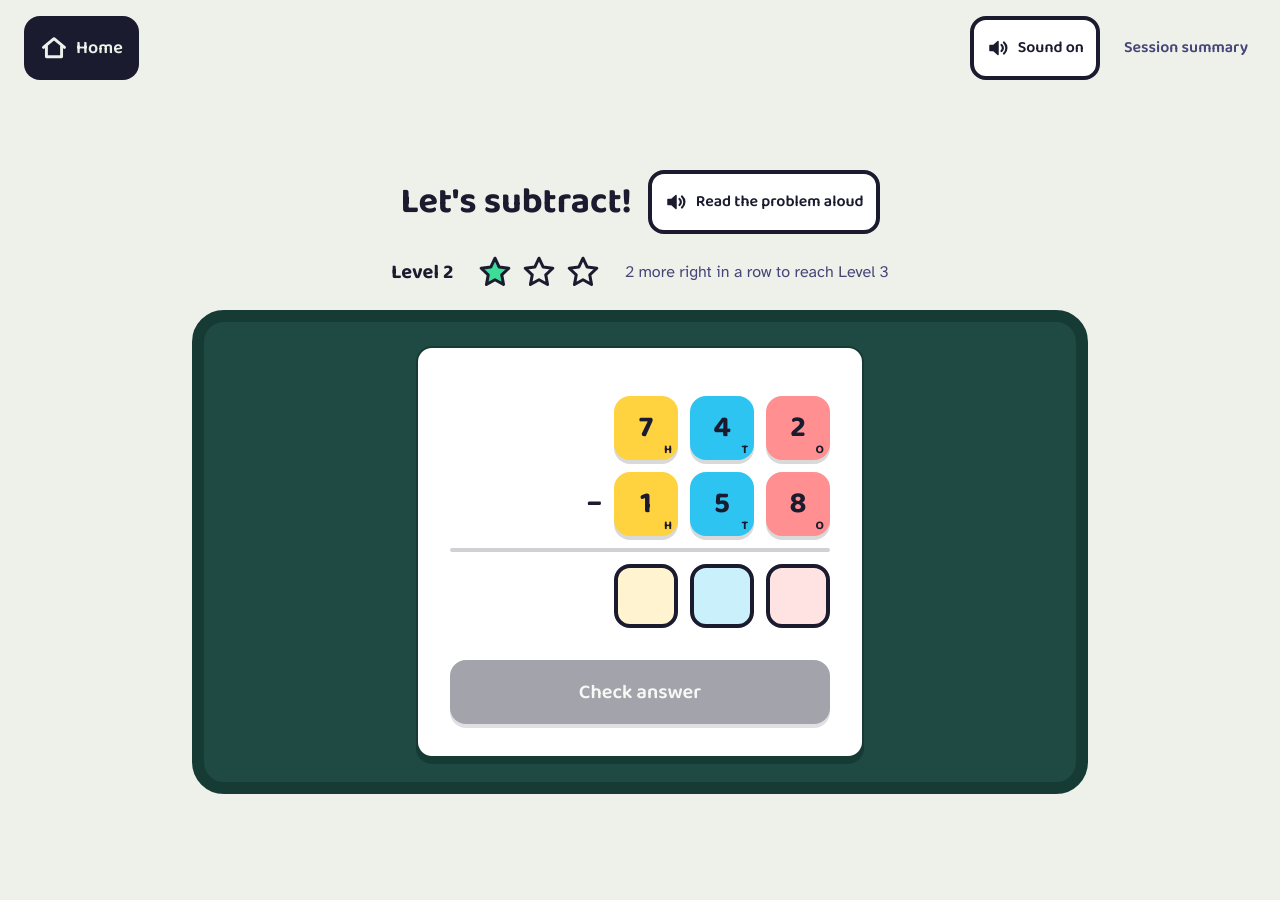
Test: a wrong answer plays the soft wrong sound
The image size is (1280, 900).
Type "6" into the field named "Hundreds digit of your answer" at (646, 596), box [614, 564, 678, 628]
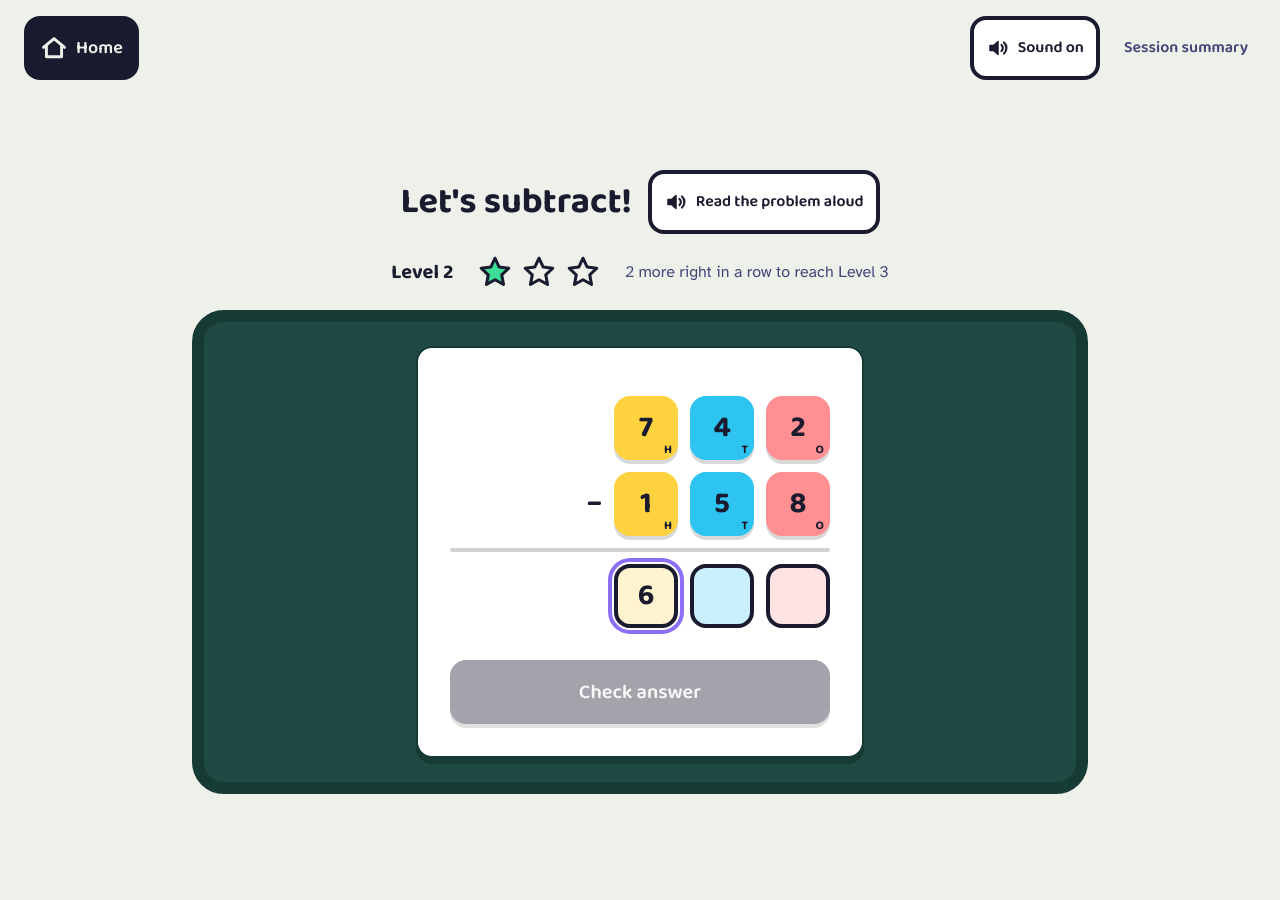
Type "1" into the field named "Tens digit of your answer" at (722, 596), box [690, 564, 754, 628]
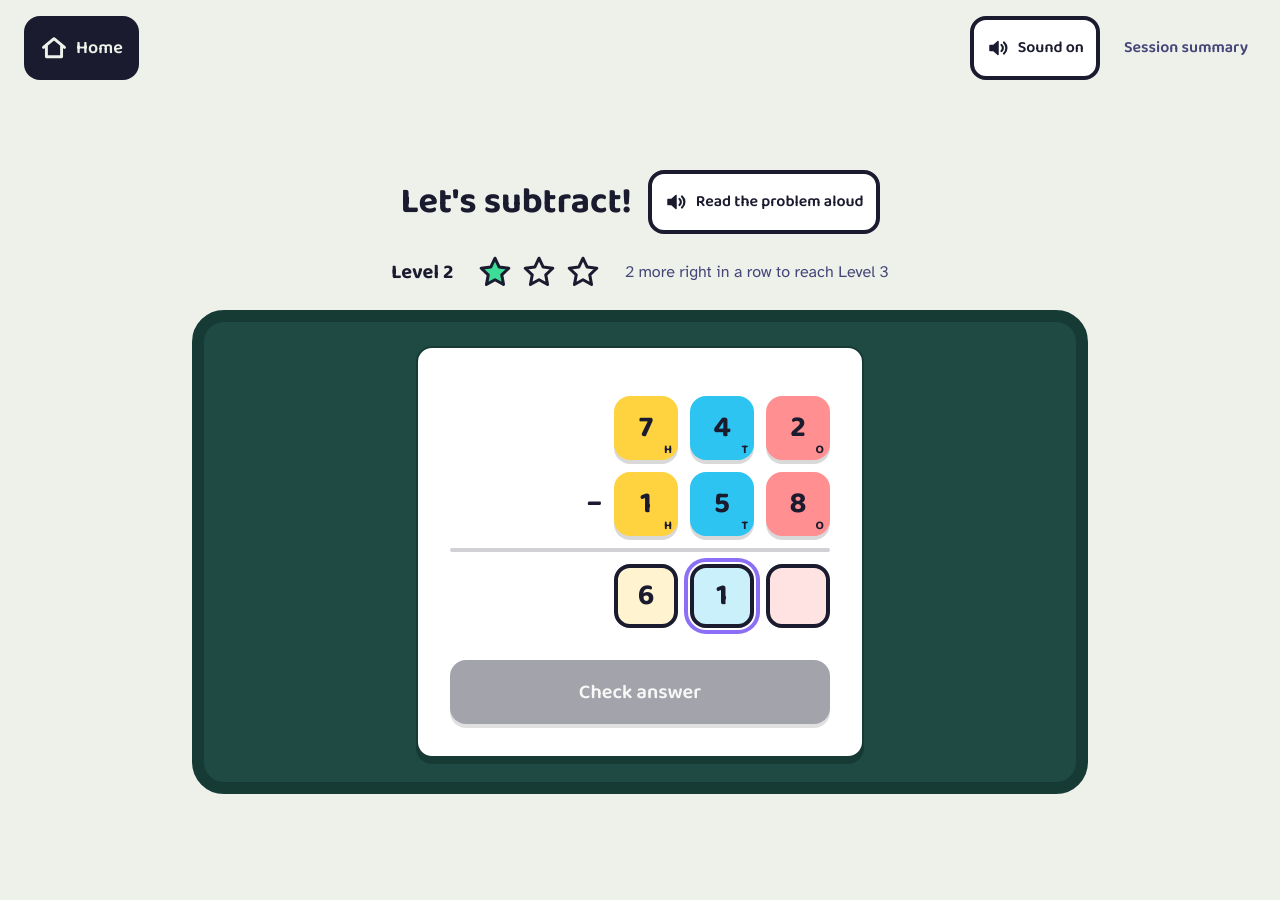
Type "6" into the field named "Ones digit of your answer" at (798, 596), box [766, 564, 830, 628]
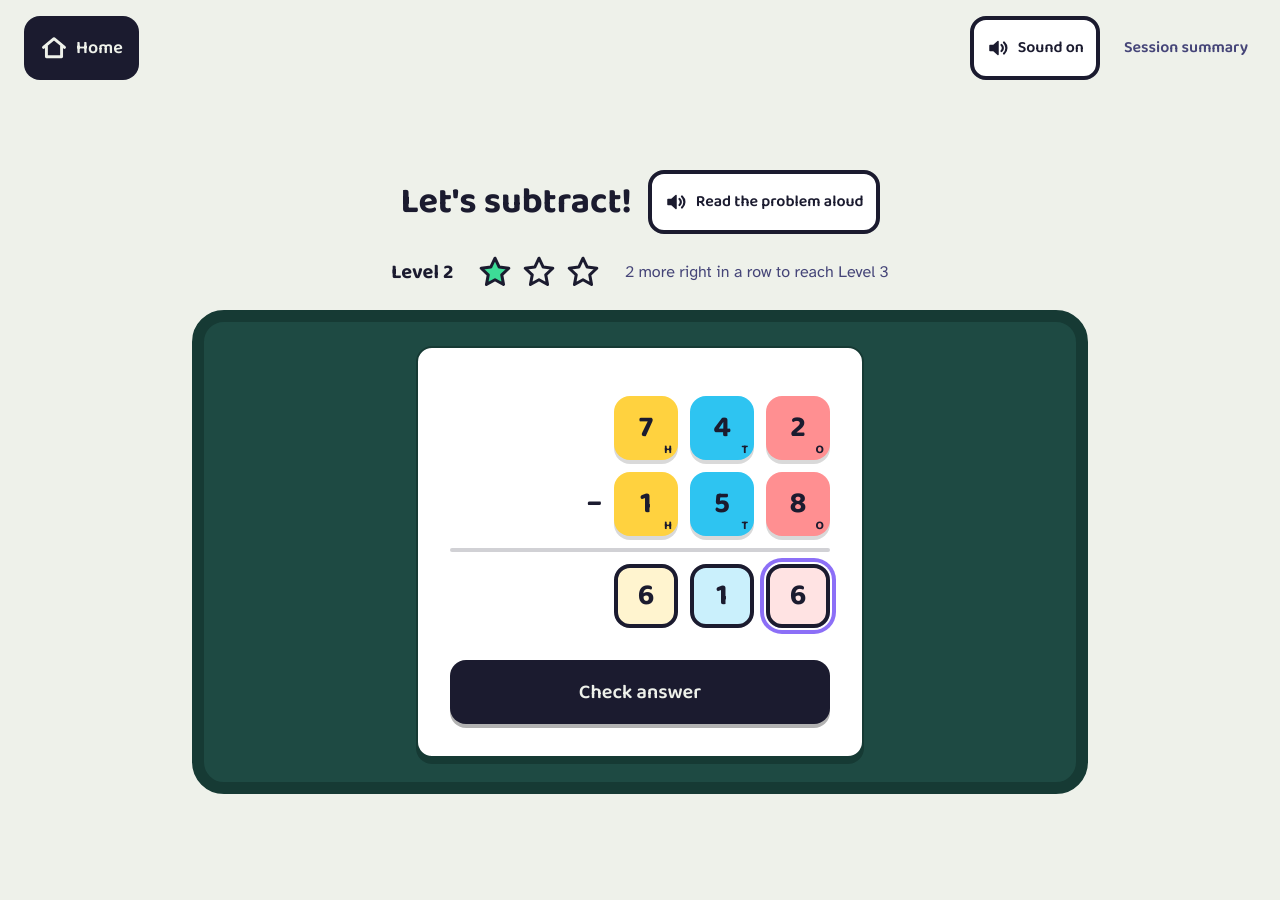
Click the button "Check answer" at (640, 692), box [450, 660, 830, 724]
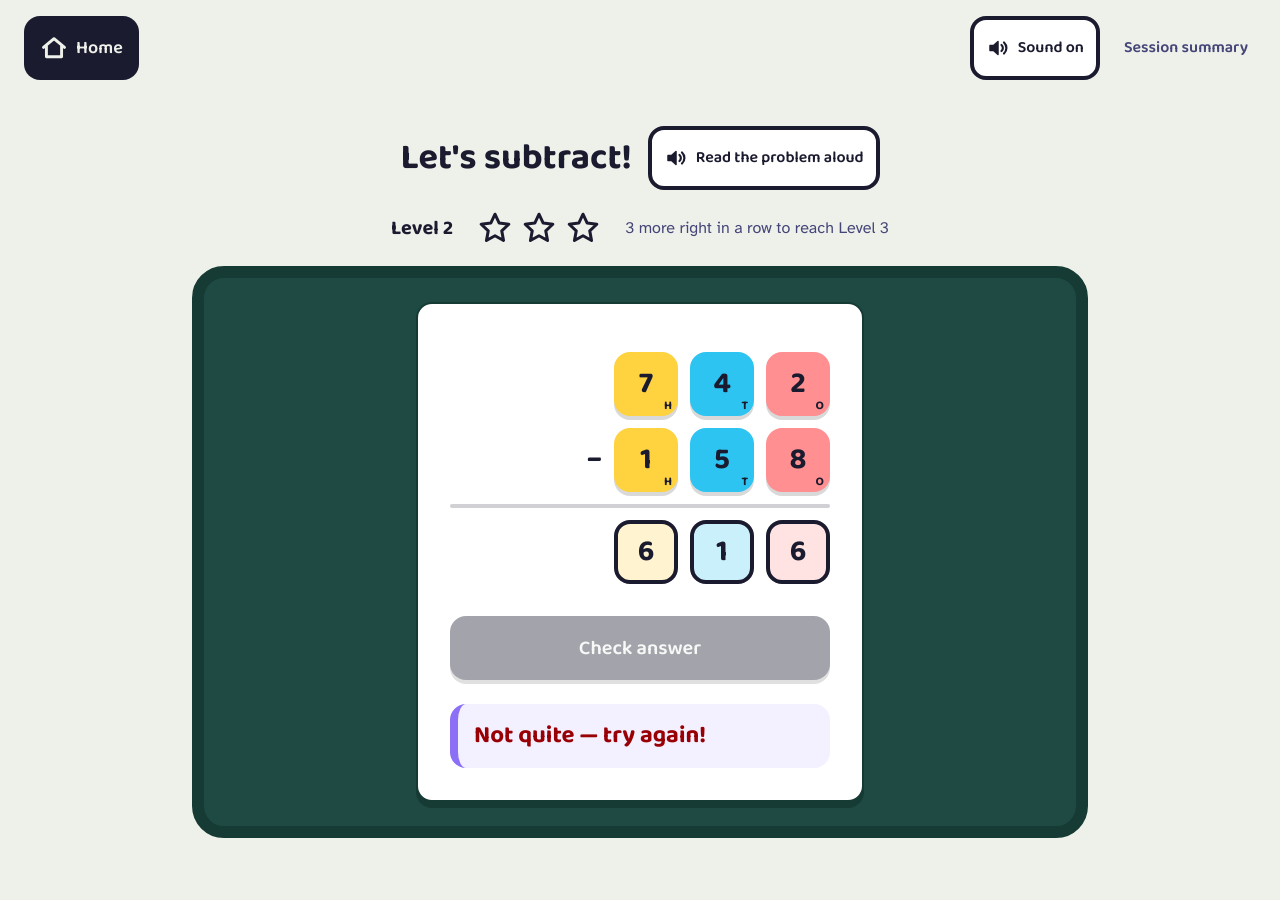
Expected: the text "Not quite — try again!" is shown, [474, 716, 706, 755]
